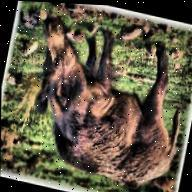boar: (13, 2, 192, 192)
